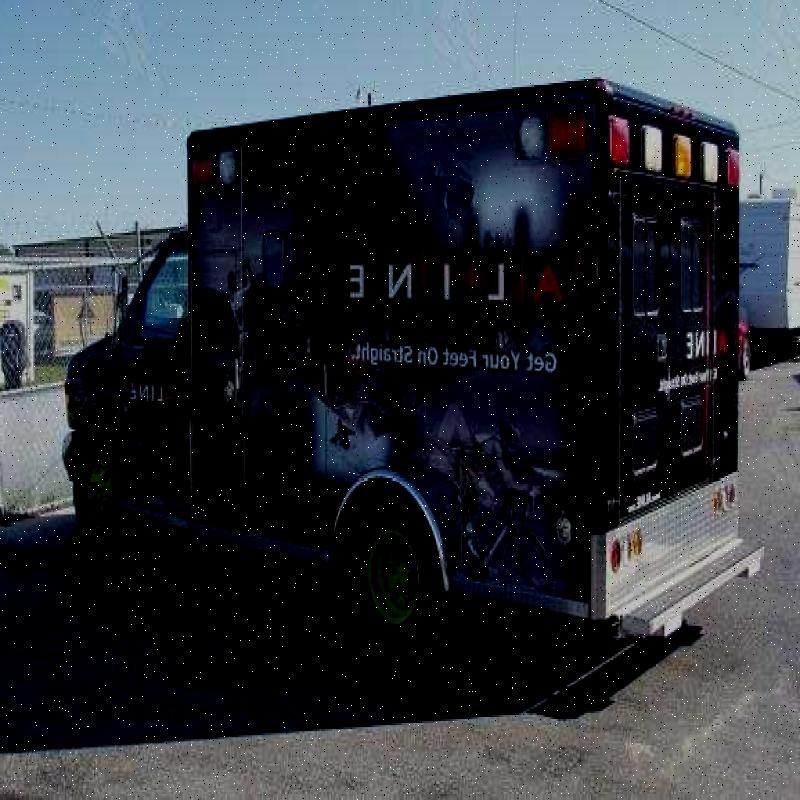AmbulanceSiren: (608, 115, 744, 196)
